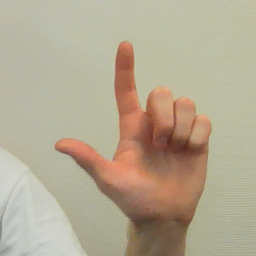L: (53, 40, 215, 224)
